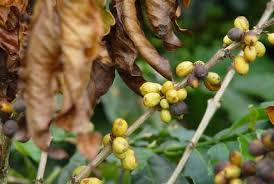mal de hilachas: (1, 1, 106, 128), (114, 1, 191, 138)
